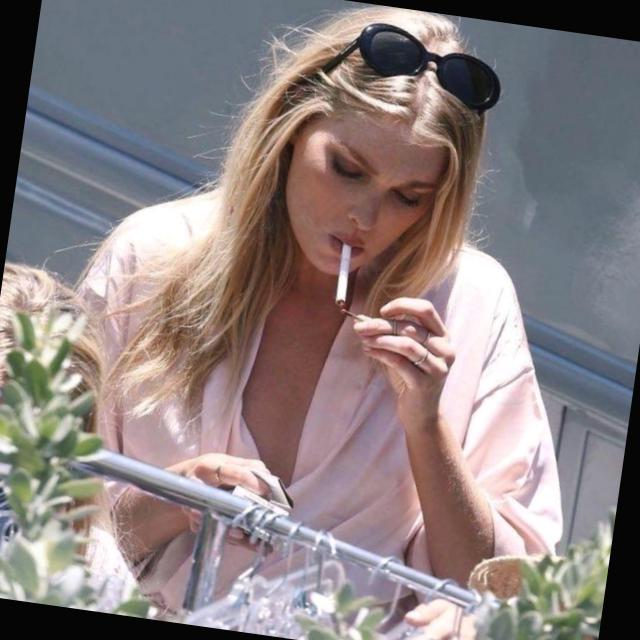cigarette: (322, 230, 375, 318)
